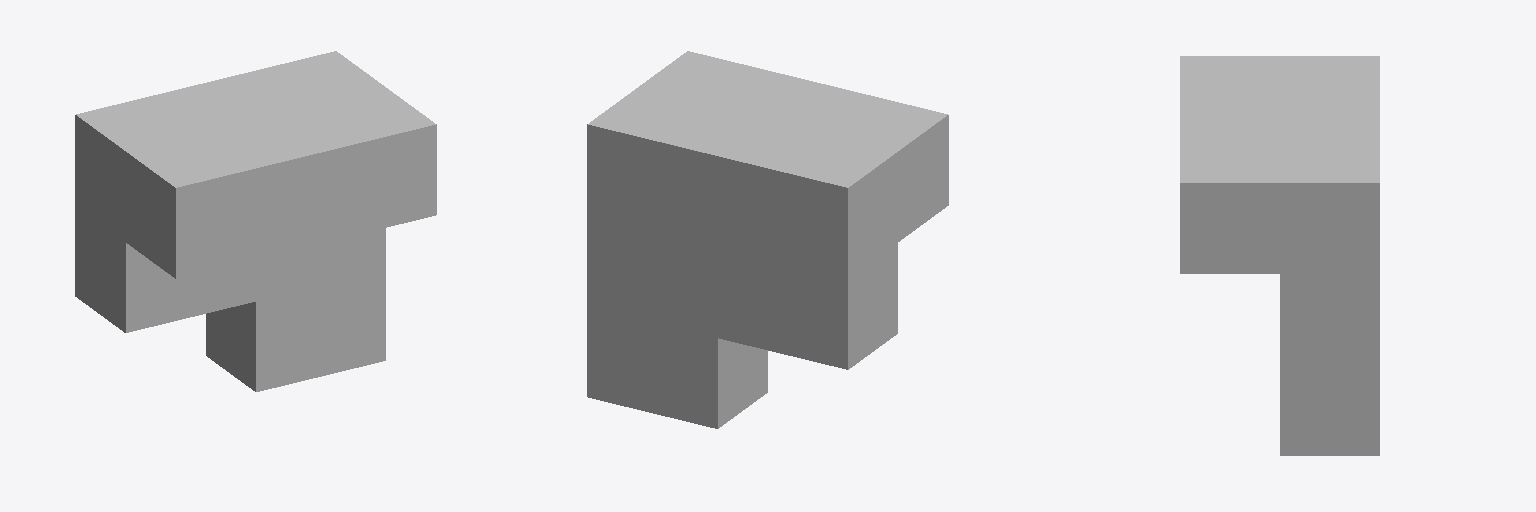
File: E3-Rep02-p02.obj
3 renders of one model, left to right at view 1: azimuth 30°, elevation 25°; view 2: azimuth 150°, elevation 25°; view 3: azimuth 270°, elevation 25°, orthographic.
Parts seen in each view (by area): view 1: mesh2, mesh6, mesh1, mesh3, mesh8; view 2: mesh5, mesh2, mesh3, mesh8; view 3: mesh4, mesh2.
Boxes of the visible parts, x1=… form: mesh2: x1=76, y1=51, x2=435, y2=187; mesh6: x1=126, y1=228, x2=385, y2=391; mesh1: x1=176, y1=124, x2=436, y2=278; mesh3: x1=75, y1=115, x2=175, y2=332; mesh8: x1=206, y1=302, x2=255, y2=391; mesh5: x1=587, y1=124, x2=847, y2=428; mesh2: x1=588, y1=51, x2=947, y2=187; mesh3: x1=848, y1=115, x2=948, y2=369; mesh8: x1=718, y1=338, x2=767, y2=428; mesh4: x1=1180, y1=183, x2=1379, y2=455; mesh2: x1=1180, y1=56, x2=1379, y2=182.
Size of the model in its own units: 0.03 by 0.03 by 0.02.